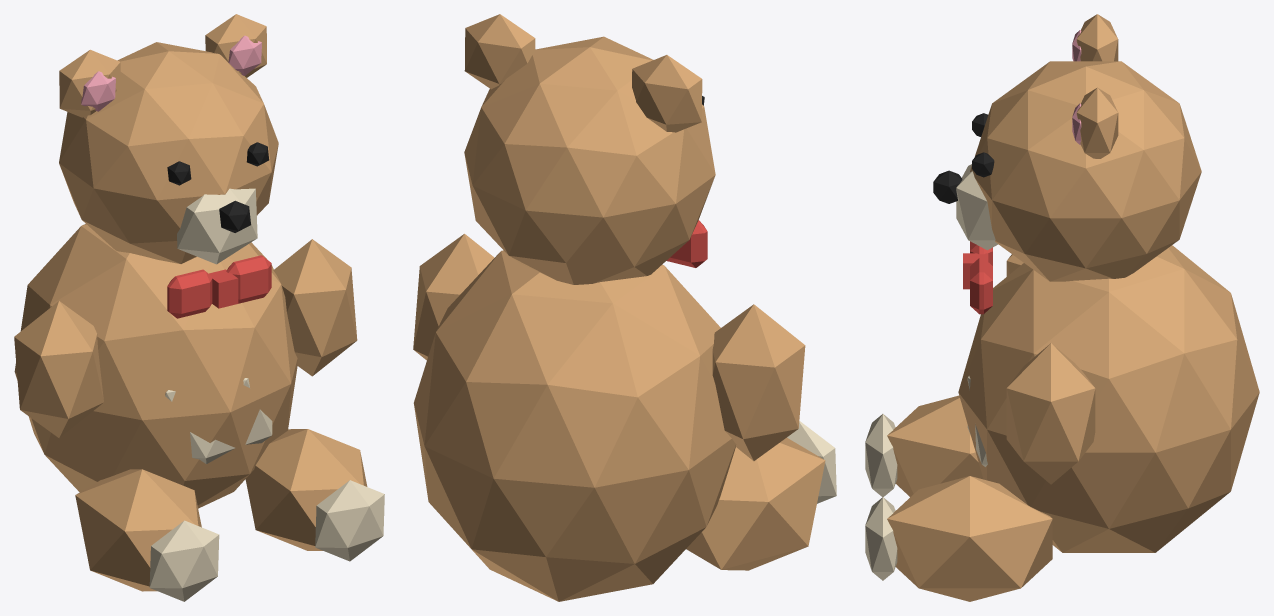
File: teddy_bear.glb
The picture shows the model from 3 angles, left to right: view 1: azimuth 30°, elevation 25°; view 2: azimuth 150°, elevation 25°; view 3: azimuth 270°, elevation 25°; orthographic projection. The views are drawn at different scales.
Visible parts, largest first — view 1: teddy_bear; view 2: teddy_bear; view 3: teddy_bear.
Boxes of the visible parts, box(x1,y1,x2,y2) form: teddy_bear: box(14, 14, 384, 601); teddy_bear: box(413, 14, 836, 601); teddy_bear: box(865, 14, 1259, 601).
Size of the model in its own units: 0.3405 by 0.485 by 0.3403.
1 material, 1 textured.
